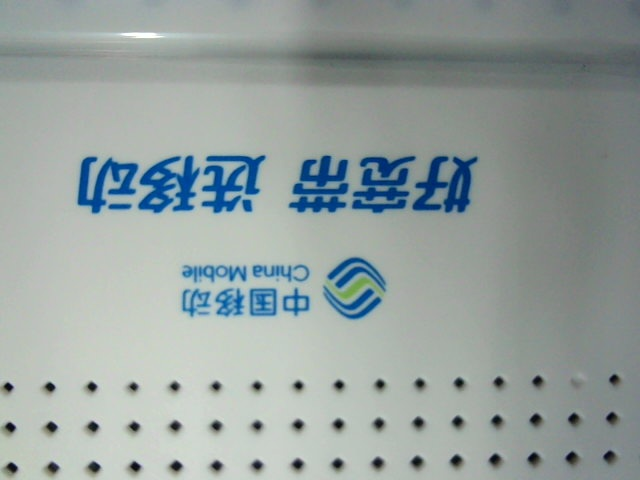AA_ChinaMoble: (69, 142, 479, 318)
